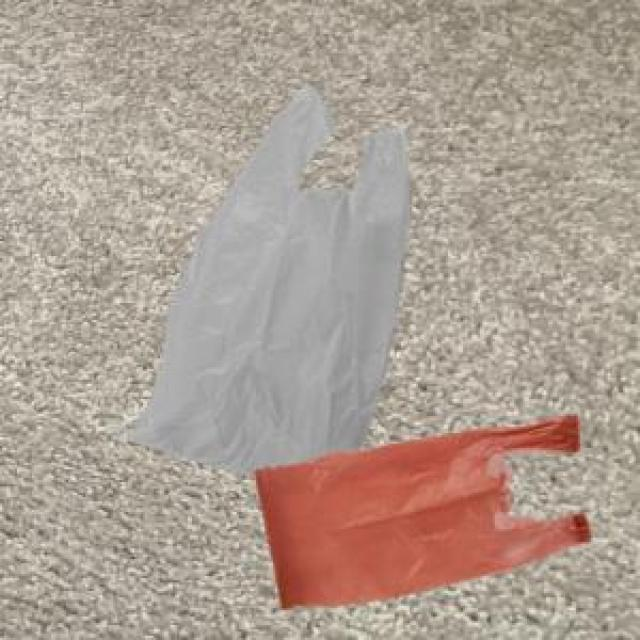plastic: (109, 74, 594, 613)
